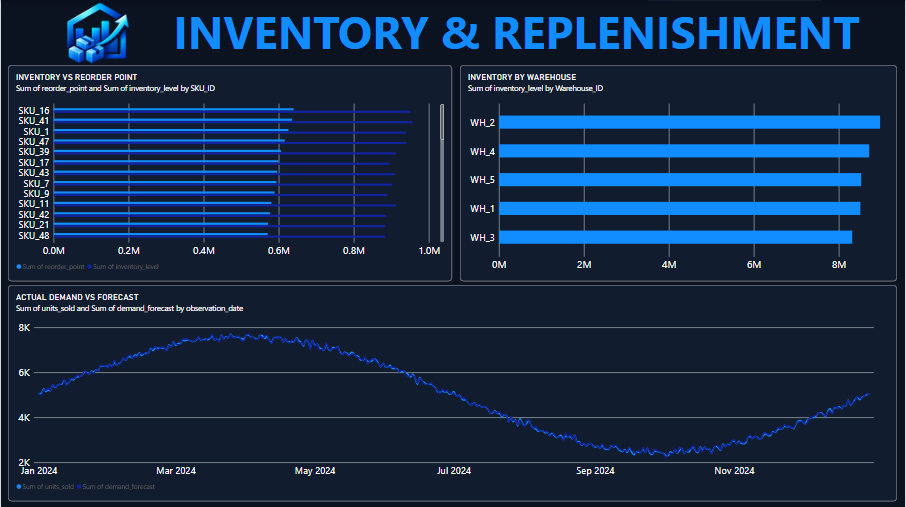

This screenshot's page, from the dashboard's own definition file:
{"tool":"powerbi","page":{"name":"Inventory & Replenishment","canvas":[1920,1080],"ordinal":1},"visuals":[{"type":"textbox","box":[272.2,0,1648.1,138.2],"z":0},{"type":"clusteredBarChart","title":"INVENTORY VS REORDER POINT","fields":{"Category":["inventory_analysis csv.SKU_ID"],"Y":["Sum(inventory_analysis csv.reorder_point)","Sum(inventory_analysis csv.inventory_level)"]},"box":[15.1,138.2,943.9,460.1],"z":1},{"type":"clusteredBarChart","title":"INVENTORY BY WAREHOUSE","fields":{"Category":["inventory_analysis csv.Warehouse_ID"],"Y":["Sum(inventory_analysis csv.inventory_level)"]},"box":[976.3,138.2,928.8,460.1],"z":2},{"type":"lineChart","title":"ACTUAL DEMAND VS FORECAST","fields":{"Category":["inventory_analysis csv.observation_date"],"Y":["Sum(inventory_analysis csv.units_sold)","Sum(inventory_analysis csv.demand_forecast)"]},"box":[15.1,607,1890,460.1],"z":3},{"type":"image","box":[0,0,406.1,138.2],"z":4}]}

Visuals, with their boxes in screenshot pixels (x1, y1, x2, y2), scaled from the page's 1920x1080 canvas onto the 906x507 screenshot:
textbox: (left=128, top=0, right=905, bottom=65)
"INVENTORY VS REORDER POINT" clusteredBarChart: (left=7, top=65, right=453, bottom=281)
"INVENTORY BY WAREHOUSE" clusteredBarChart: (left=461, top=65, right=899, bottom=281)
"ACTUAL DEMAND VS FORECAST" lineChart: (left=7, top=285, right=899, bottom=501)
image: (left=0, top=0, right=192, bottom=65)
